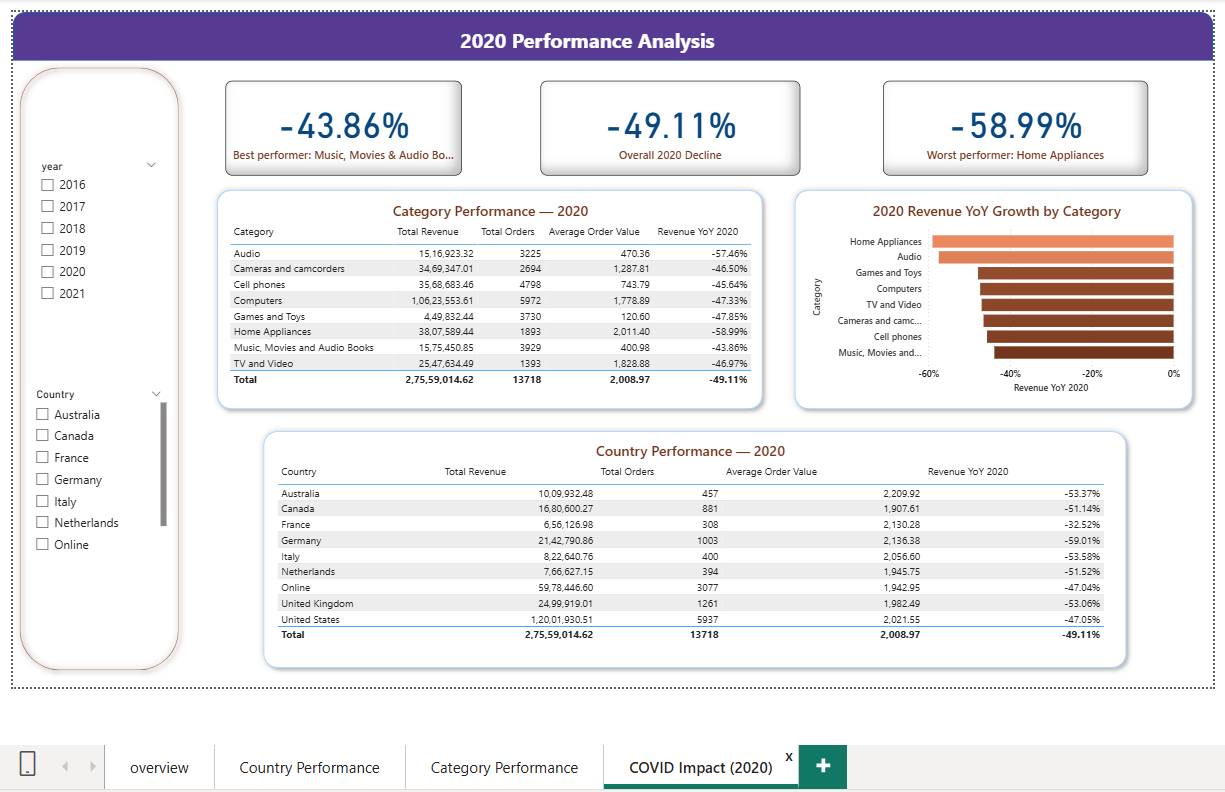

What the dashboard file says about the page in this screenshot:
{"tool":"powerbi","page":{"name":"COVID Impact (2020)","canvas":[1600,900],"ordinal":3},"visuals":[{"type":"shape","box":[0,0,1600,65],"z":0},{"type":"textbox","box":[470,14.3,591.4,51.4],"z":1000},{"type":"shape","box":[263.3,228.3,745,310],"z":2000},{"type":"shape","box":[1033.3,228.3,548.3,310],"z":3000},{"type":"shape","box":[325,550,1168.3,333.3],"z":4000},{"type":"card","fields":{"Values":["_measures.Revenue YoY 2020"]},"box":[1160,91.7,353.3,126.7],"z":5000},{"type":"card","fields":{"Values":["_measures.Revenue YoY 2020"]},"box":[283.3,91.7,315,126.7],"z":6000},{"type":"card","fields":{"Values":["_measures.Revenue YoY 2020"]},"box":[703.3,91.7,346.7,126.7],"z":7000},{"type":"tableEx","title":"Country Performance — 2020","fields":{"Values":["Stores.Country","_measures.Total Revenue","_measures.Total Orders","_measures.Average Order Value","_measures.Revenue YoY 2020"]},"box":[346.7,571.7,1113.3,291.7],"z":8000},{"type":"tableEx","title":"Category Performance — 2020","fields":{"Values":["Products.Category","_measures.Total Revenue","_measures.Total Orders","_measures.Average Order Value","_measures.Revenue YoY 2020"]},"box":[283.3,251.7,706.7,261.7],"z":10000},{"type":"clusteredBarChart","title":"2020 Revenue YoY Growth by Category","fields":{"Category":["Products.Category"],"Y":["_measures.Revenue YoY 2020"]},"box":[1061.7,251.7,500,261.7],"z":11000},{"type":"shape","box":[0,65,230,821.7],"z":12000},{"type":"slicer","fields":{"Values":["Calendar.year"]},"box":[25,191.7,178.3,226.7],"z":13000},{"type":"slicer","fields":{"Values":["Stores.Country"]},"box":[18.3,496.7,191.7,236.7],"z":13500}]}

Visuals, with their boxes on the page's 1600x900 design canvas (x1, y1, x2, y2). These are canvas units, not pixel positions in the 1225x792 screenshot, which may show the page scaled, cropped or inside an application window:
shape: 0/0/1600/65
textbox: 470/14/1061/66
shape: 263/228/1008/538
shape: 1033/228/1582/538
shape: 325/550/1493/883
card - _measures.Revenue YoY 2020: 1160/92/1513/218
card - _measures.Revenue YoY 2020: 283/92/598/218
card - _measures.Revenue YoY 2020: 703/92/1050/218
"Country Performance — 2020" tableEx: 347/572/1460/863
"Category Performance — 2020" tableEx: 283/252/990/513
"2020 Revenue YoY Growth by Category" clusteredBarChart: 1062/252/1562/513
shape: 0/65/230/887
slicer - Calendar.year: 25/192/203/418
slicer - Stores.Country: 18/497/210/733
